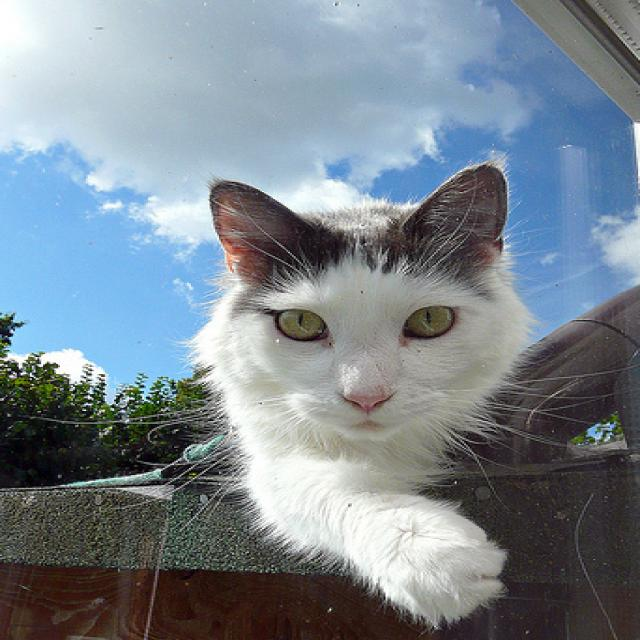Maine Coon: (184, 158, 536, 625)
